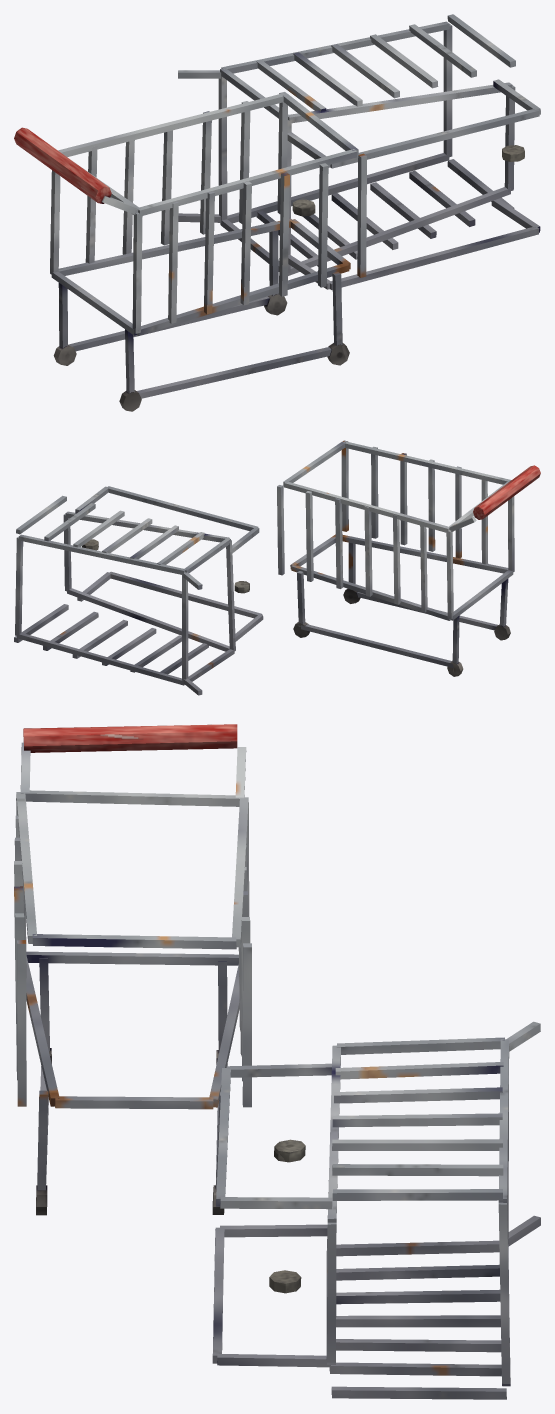
Rendered from ShoppingCarts.glb.
The picture shows the model from 3 angles, top to bottom: view 1: azimuth 30°, elevation 25°; view 2: azimuth 150°, elevation 25°; view 3: azimuth 270°, elevation 25°; orthographic projection. The views are drawn at different scales.
Parts seen in each view (by area): view 1: Wire, Casters, Handle; view 2: Wire, Handle, Casters; view 3: Wire, Handle, Casters.
Boxes of the visible parts, x1=… form: Wire: x1=50, y1=14, x2=540, y2=398; Casters: x1=53, y1=145, x2=524, y2=411; Handle: x1=14, y1=127, x2=111, y2=203; Wire: x1=14, y1=440, x2=514, y2=695; Handle: x1=473, y1=465, x2=540, y2=519; Casters: x1=82, y1=539, x2=510, y2=676; Wire: x1=14, y1=742, x2=540, y2=1399; Handle: x1=23, y1=724, x2=237, y2=752; Casters: x1=36, y1=1048, x2=305, y2=1293.
Bounding box in the file's own units: 3.88 × 1.69 × 2.42.
3 materials, 3 textured.
